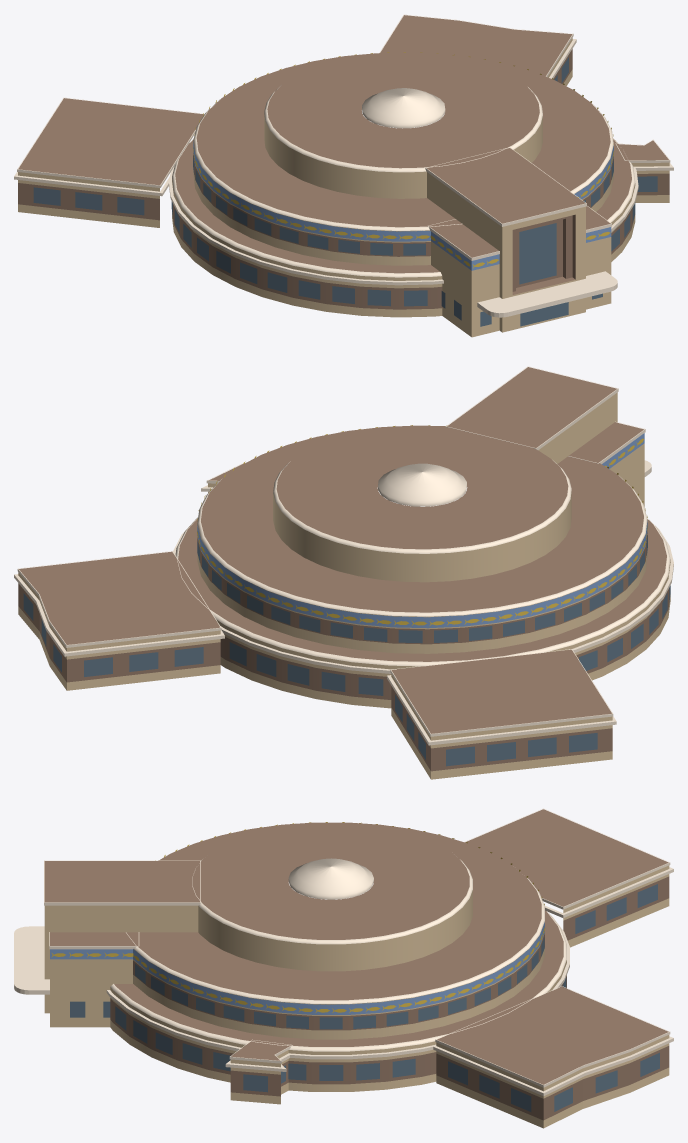
File: nyc-lga-marine-air-terminal.glb
3 renders of one model, top to bottom at view 1: azimuth 30°, elevation 25°; view 2: azimuth 150°, elevation 25°; view 3: azimuth 270°, elevation 25°, orthographic. The views are drawn at different scales.
Parts seen in each view (by area): view 1: Marine Air Terminal; view 2: Marine Air Terminal; view 3: Marine Air Terminal.
Part boxes in pixels (left/top/right/bottom): Marine Air Terminal: left=14, top=14, right=673, bottom=337; Marine Air Terminal: left=14, top=366, right=673, bottom=779; Marine Air Terminal: left=14, top=808, right=673, bottom=1128.
Size of the model in its own units: 60.57 by 12.7 by 60.32.
